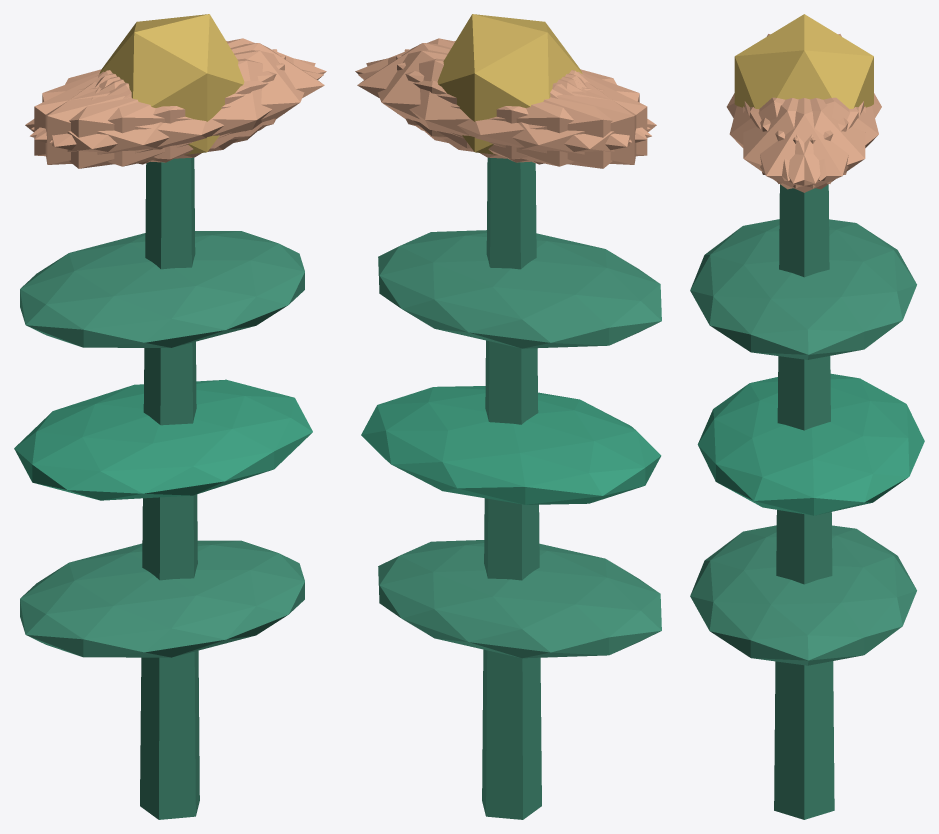
File: eucalyptus-camaldulensis.glb
The picture shows the model from 3 angles, left to right: view 1: azimuth 30°, elevation 25°; view 2: azimuth 150°, elevation 25°; view 3: azimuth 270°, elevation 25°; orthographic projection.
Visible parts, largest first — view 1: leaf2, leaf1, leaf0, stem, center, petal1, petal6, petal2, petal5, petal7, petal0, petal4 (+2 smaller); view 2: leaf1, leaf2, leaf0, stem, center, petal8, petal3, petal7, petal4, petal2, petal0, petal5 (+2 smaller); view 3: leaf2, leaf1, leaf0, stem, center, petal0, petal4, petal5, petal8, petal1.
Part boxes in pixels (x1,y1,x2,y2): leaf2: [20, 231, 304, 347]; leaf1: [14, 379, 312, 500]; leaf0: [20, 540, 304, 657]; stem: [140, 157, 199, 819]; center: [99, 14, 244, 154]; petal1: [30, 58, 323, 166]; petal6: [25, 71, 238, 168]; petal2: [45, 49, 277, 164]; petal5: [49, 50, 315, 159]; petal7: [34, 55, 285, 162]; petal0: [99, 43, 324, 148]; petal4: [31, 38, 326, 139]; leaf1: [361, 386, 661, 504]; leaf2: [378, 230, 661, 348]; leaf0: [378, 540, 661, 658]; stem: [482, 157, 541, 819]; center: [437, 14, 582, 154]; petal8: [358, 58, 651, 166]; petal3: [443, 71, 656, 168]; petal7: [404, 49, 636, 164]; petal4: [366, 50, 632, 159]; petal2: [396, 55, 647, 162]; petal0: [357, 43, 582, 148]; petal5: [355, 38, 650, 139]; leaf2: [690, 219, 916, 359]; leaf1: [697, 373, 924, 515]; leaf0: [690, 525, 916, 665]; stem: [774, 184, 834, 819]; center: [734, 14, 873, 109]; petal0: [744, 98, 863, 192]; petal4: [750, 98, 865, 189]; petal5: [743, 98, 858, 189]; petal8: [760, 97, 878, 180]; petal1: [729, 97, 848, 180].
Bounding box in the file's own units: 0.1497 × 0.3759 × 0.1033.
